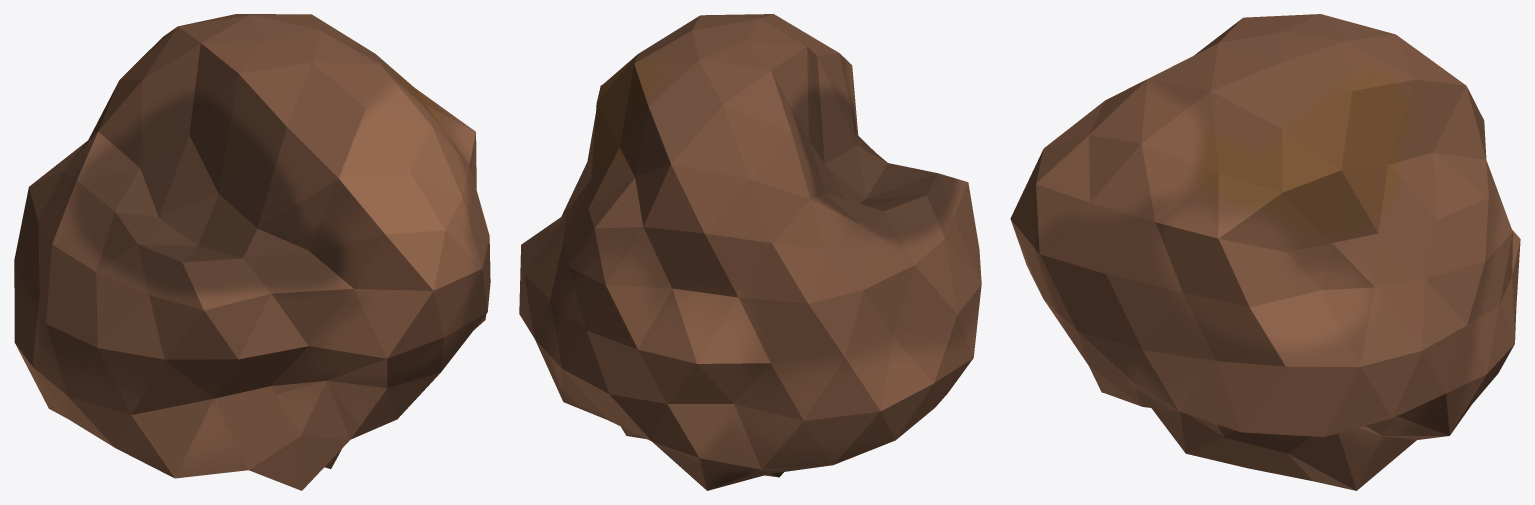
Rendered from AsteroidV2.obj.
3 views of the same model, side by side, from view 1: azimuth 30°, elevation 25°; view 2: azimuth 150°, elevation 25°; view 3: azimuth 270°, elevation 25° (orthographic). The views are drawn at different scales.
Visible parts, largest first — view 1: Icosphere_Icosphere.002; view 2: Icosphere_Icosphere.002; view 3: Icosphere_Icosphere.002.
Boxes of the visible parts, <box> form: Icosphere_Icosphere.002: <box>14,14,490,490</box>; Icosphere_Icosphere.002: <box>519,14,981,490</box>; Icosphere_Icosphere.002: <box>1010,14,1520,490</box>.
Size of the model in its own units: 1.88 by 1.77 by 1.9.
1 material, 1 textured.
